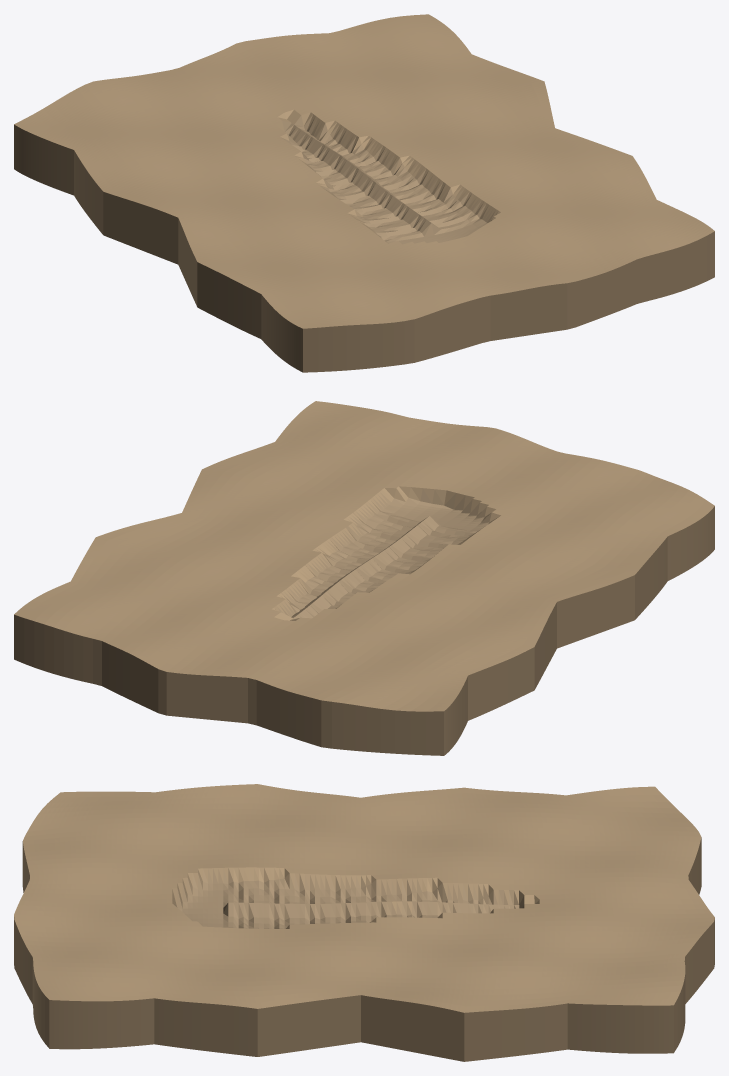
3 renders of one model, top to bottom at view 1: azimuth 30°, elevation 25°; view 2: azimuth 150°, elevation 25°; view 3: azimuth 270°, elevation 25°, orthographic. The views are drawn at different scales.
Parts seen in each view (by area): view 1: negative_hyporelief_N14_03_informed_spriggina_impression_int; view 2: negative_hyporelief_N14_03_informed_spriggina_impression_int; view 3: negative_hyporelief_N14_03_informed_spriggina_impression_int.
Boxes of the visible parts, box(x1,y1,x2,y2) form: negative_hyporelief_N14_03_informed_spriggina_impression_int: box(14, 14, 714, 372); negative_hyporelief_N14_03_informed_spriggina_impression_int: box(14, 401, 714, 755); negative_hyporelief_N14_03_informed_spriggina_impression_int: box(14, 784, 714, 1061).
Size of the model in its own units: 0.0525 by 0.00532 by 0.0677.
